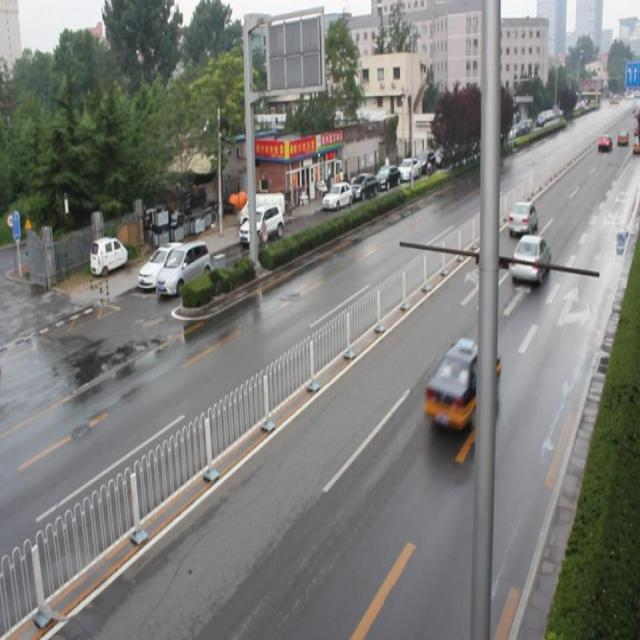car: (422, 339, 496, 430), (509, 234, 548, 282), (506, 199, 538, 237)
